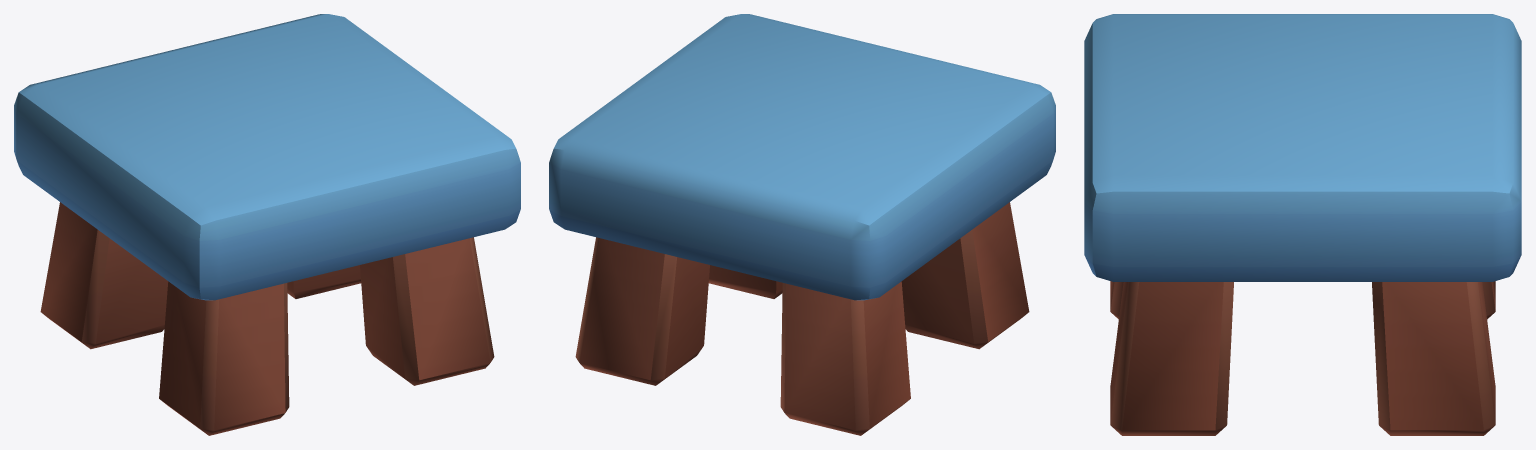
Rendered from stool.glb.
3 views of the same model, side by side, from view 1: azimuth 30°, elevation 25°; view 2: azimuth 150°, elevation 25°; view 3: azimuth 270°, elevation 25° (orthographic). The views are drawn at different scales.
Parts seen in each view (by area): view 1: chair_stool; view 2: chair_stool; view 3: chair_stool.
Boxes of the visible parts, box(x1,y1,x2,y2) form: chair_stool: box(14, 14, 520, 435); chair_stool: box(549, 14, 1055, 435); chair_stool: box(1084, 14, 1521, 435).
Size of the model in its own units: 0.45 by 0.3 by 0.45.
Materials: 1 (1 with a texture image).
